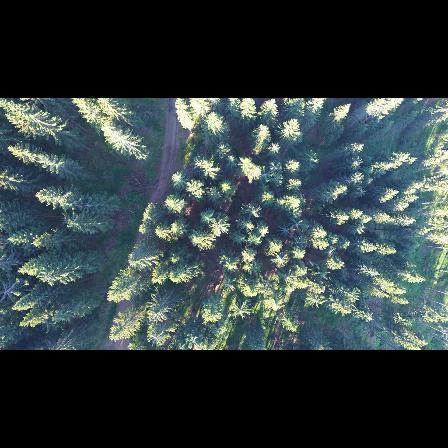Sick: (0, 280, 18, 304), (278, 223, 293, 238)
